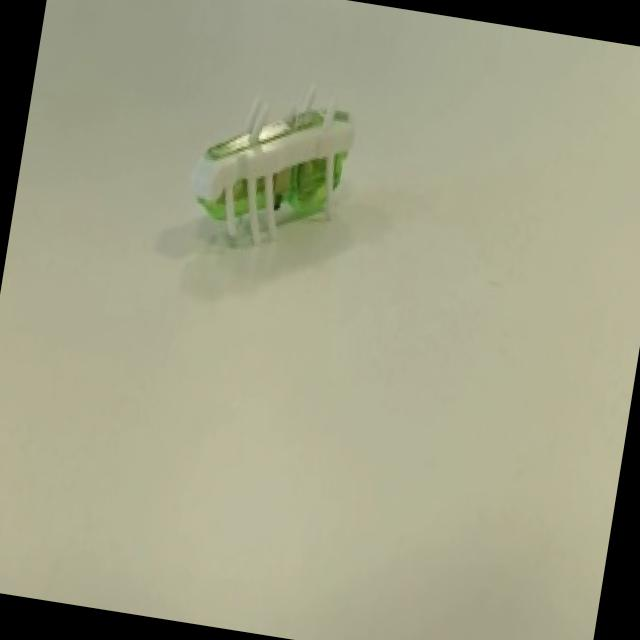4_NanoBug_Blanco: (138, 46, 390, 305)
